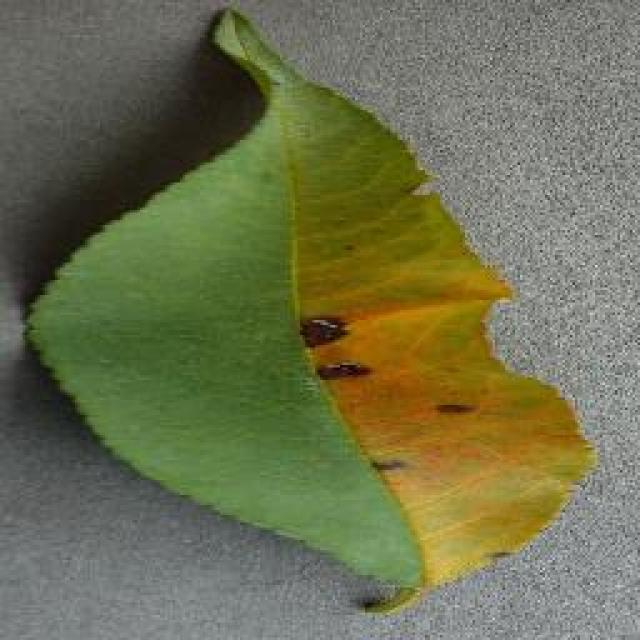Peach_Bacterial_Spot: (252, 252, 553, 545)
